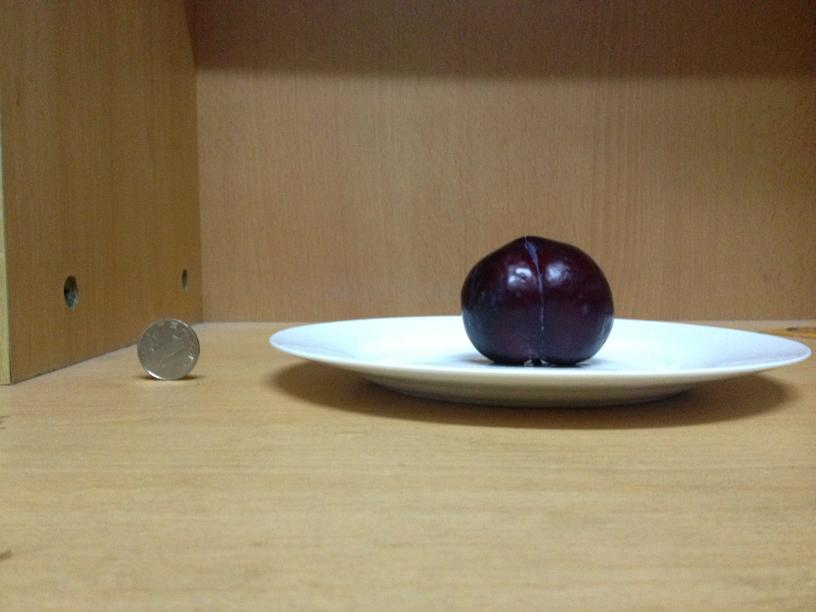coin: (137, 321, 198, 380)
plum: (464, 235, 614, 364)
